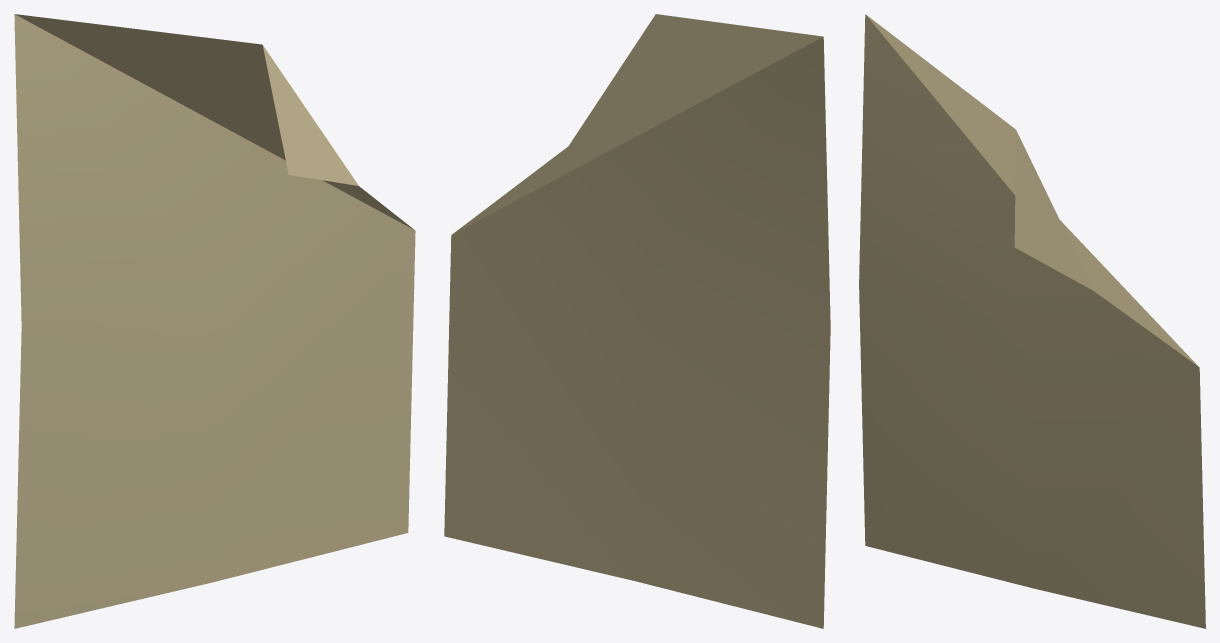
Rendered from SM_Poster_02.fbx.
The picture shows the model from 3 angles, left to right: view 1: azimuth 30°, elevation 25°; view 2: azimuth 150°, elevation 25°; view 3: azimuth 330°, elevation 25°; orthographic projection. The views are drawn at different scales.
Visible parts, largest first — view 1: SM_Poster_02; view 2: SM_Poster_02; view 3: SM_Poster_02.
Boxes of the visible parts, x1=… form: SM_Poster_02: x1=14, y1=14, x2=415, y2=628; SM_Poster_02: x1=444, y1=14, x2=830, y2=628; SM_Poster_02: x1=859, y1=14, x2=1205, y2=628.
Bounding box in the file's own units: 61 × 91 × 13.62.
